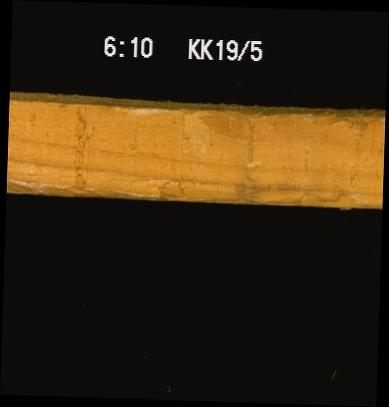wave: (6, 175, 158, 196)
